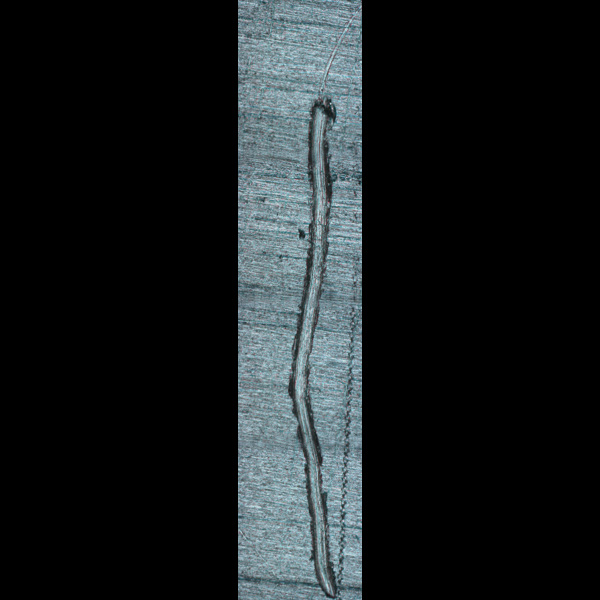d: (285, 88, 348, 599)
